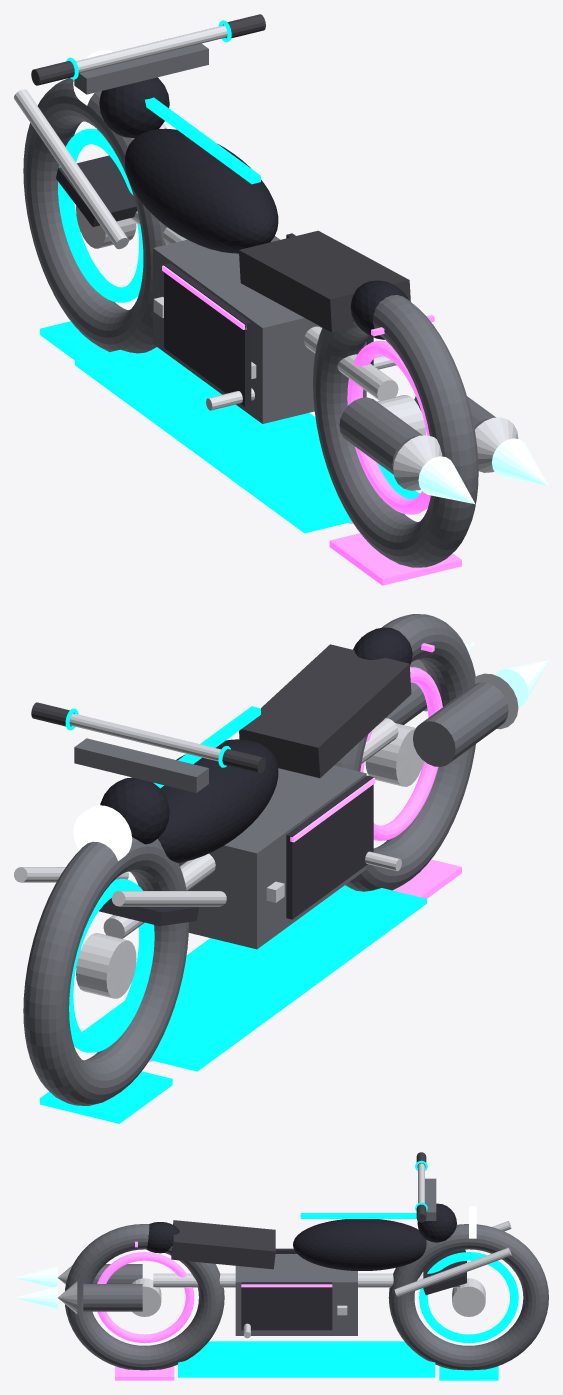
Rendered from cyberpunk_harley.glb.
The picture shows the model from 3 angles, top to bottom: view 1: azimuth 30°, elevation 25°; view 2: azimuth 150°, elevation 25°; view 3: azimuth 270°, elevation 25°; orthographic projection. The views are drawn at different scales.
Visible parts, largest first — view 1: hoverring_rear, belly_glow, hoverring_front, tank, engine_block, seat, sidepanel_L, halo_front, thruster_L, triple_clamp, fork_L, front_cowl (+15 smaller); view 2: hoverring_front, belly_glow, seat, engine_block, hoverring_rear, tank, sidepanel_L, thruster_L, halo_front, triple_clamp, hub_front, front_cowl (+18 smaller); view 3: hoverring_front, belly_glow, hoverring_rear, tank, engine_block, sidepanel_R, seat, halo_front, halo_rear, thruster_R, spine, fork_R (+14 smaller).
Part boxes in pixels (x1,y1,x2,y2): hoverring_rear: (313,295,478,567); belly_glow: (75,347,419,533); hoverring_front: (23,78,167,353); tank: (125,128,278,253); engine_block: (153,236,366,423); seat: (239,230,410,332); sidepanel_L: (164,263,251,407); halo_front: (58,129,143,302); thruster_L: (339,397,422,474); triple_clamp: (74,43,208,94); fork_L: (14,89,128,249); front_cowl: (99,77,169,137); hoverring_front: (23,837,188,1105); belly_glow: (82,885,426,1071); seat: (239,644,411,778); engine_block: (178,765,366,949); hoverring_rear: (334,614,475,891); tank: (158,739,278,862); sidepanel_L: (286,775,373,919); thruster_L: (413,682,508,766); halo_front: (69,879,154,1052); triple_clamp: (74,738,208,792); hub_front: (76,933,136,998); front_cowl: (100,777,169,844); hoverring_front: (388,1224,548,1370); belly_glow: (178,1341,435,1377); hoverring_rear: (65,1224,224,1370); tank: (293,1219,426,1270); engine_block: (235,1254,357,1335); sidepanel_R: (241,1282,332,1330); seat: (171,1220,275,1269); halo_front: (419,1252,518,1343); halo_rear: (97,1252,194,1343); thruster_R: (83,1284,142,1311); spine: (153,1273,459,1287); fork_R: (394,1247,511,1297).
Bounding box in the file's own units: 0.74 × 1.05 × 2.71.
